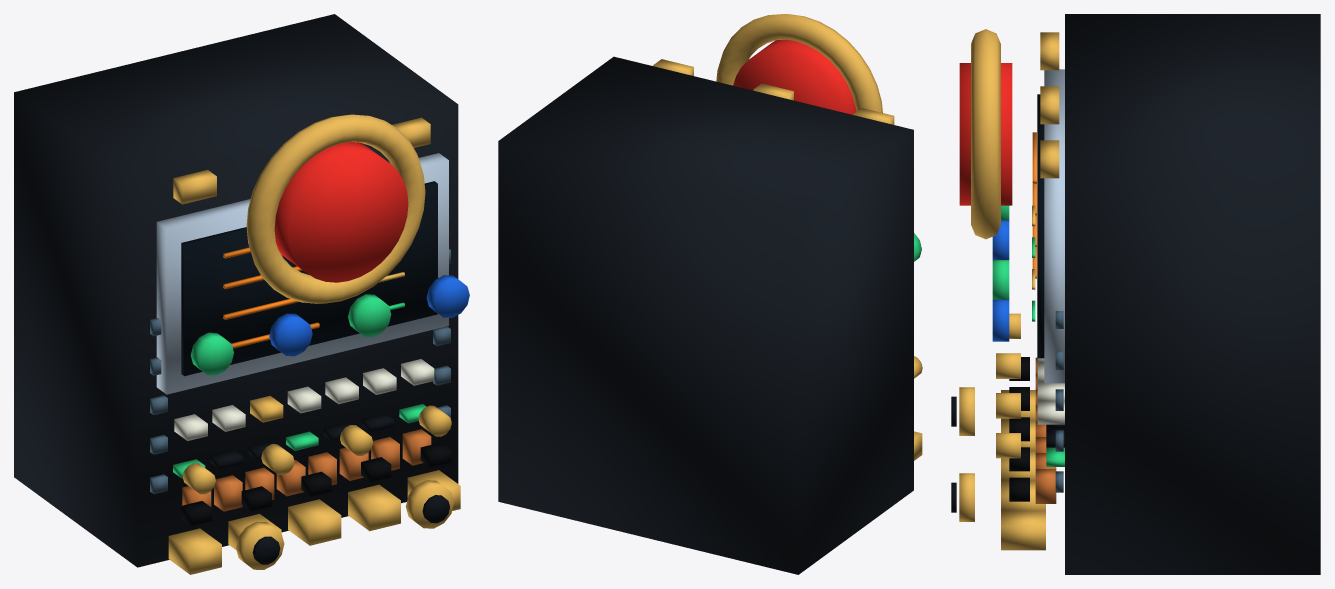
Rendered from 98_L93_EmergencyStopMaster.fbx.
The picture shows the model from 3 angles, left to right: view 1: azimuth 30°, elevation 25°; view 2: azimuth 150°, elevation 25°; view 3: azimuth 270°, elevation 25°; orthographic projection. The views are drawn at different scales.
Visible parts, largest first — view 1: L92_EmergencyStopMaster_Part_0000, L92_EmergencyStopMaster_Part_0002, L92_EmergencyStopMaster_Part_0012, L92_EmergencyStopMaster_Part_0004, L92_EmergencyStopMaster_Part_0013, L92_EmergencyStopMaster_Part_0001, L92_EmergencyStopMaster_Part_0009, L92_EmergencyStopMaster_Part_0006, L92_EmergencyStopMaster_Part_0005, L92_EmergencyStopMaster_Part_0010, L92_EmergencyStopMaster_Part_0011, L92_EmergencyStopMaster_Part_0008 (+6 smaller); view 2: L92_EmergencyStopMaster_Part_0000, L92_EmergencyStopMaster_Part_0013, L92_EmergencyStopMaster_Part_0012, L92_EmergencyStopMaster_Part_0004; view 3: L92_EmergencyStopMaster_Part_0000, L92_EmergencyStopMaster_Part_0004, L92_EmergencyStopMaster_Part_0013, L92_EmergencyStopMaster_Part_0001, L92_EmergencyStopMaster_Part_0012, L92_EmergencyStopMaster_Part_0010, L92_EmergencyStopMaster_Part_0002, L92_EmergencyStopMaster_Part_0009, L92_EmergencyStopMaster_Part_0005, L92_EmergencyStopMaster_Part_0011, L92_EmergencyStopMaster_Part_0006, L92_EmergencyStopMaster_Part_0008 (+3 smaller).
Boxes of the visible parts, left/top/right/bottom form: L92_EmergencyStopMaster_Part_0000: left=14, top=14, right=458, bottom=567; L92_EmergencyStopMaster_Part_0002: left=181, top=181, right=437, bottom=376; L92_EmergencyStopMaster_Part_0012: left=274, top=142, right=408, bottom=282; L92_EmergencyStopMaster_Part_0004: left=168, top=117, right=460, bottom=574; L92_EmergencyStopMaster_Part_0013: left=246, top=114, right=425, bottom=303; L92_EmergencyStopMaster_Part_0001: left=156, top=153, right=448, bottom=394; L92_EmergencyStopMaster_Part_0009: left=182, top=429, right=431, bottom=511; L92_EmergencyStopMaster_Part_0006: left=174, top=359, right=434, bottom=440; L92_EmergencyStopMaster_Part_0005: left=173, top=294, right=426, bottom=478; L92_EmergencyStopMaster_Part_0010: left=181, top=442, right=451, bottom=525; L92_EmergencyStopMaster_Part_0011: left=269, top=275, right=469, bottom=356; L92_EmergencyStopMaster_Part_0008: left=150, top=249, right=450, bottom=494; L92_EmergencyStopMaster_Part_0000: left=498, top=56, right=913, bottom=574; L92_EmergencyStopMaster_Part_0013: left=716, top=14, right=882, bottom=112; L92_EmergencyStopMaster_Part_0012: left=733, top=39, right=856, bottom=114; L92_EmergencyStopMaster_Part_0004: left=653, top=59, right=922, bottom=460; L92_EmergencyStopMaster_Part_0000: left=1065, top=14, right=1320, bottom=574; L92_EmergencyStopMaster_Part_0004: left=996, top=32, right=1059, bottom=550; L92_EmergencyStopMaster_Part_0013: left=971, top=29, right=1000, bottom=239; L92_EmergencyStopMaster_Part_0001: left=1044, top=69, right=1064, bottom=383; L92_EmergencyStopMaster_Part_0012: left=959, top=63, right=1012, bottom=205; L92_EmergencyStopMaster_Part_0010: left=1009, top=357, right=1029, bottom=501; L92_EmergencyStopMaster_Part_0002: left=1037, top=94, right=1044, bottom=358; L92_EmergencyStopMaster_Part_0009: left=1035, top=357, right=1056, bottom=503; L92_EmergencyStopMaster_Part_0005: left=992, top=205, right=1064, bottom=466; L92_EmergencyStopMaster_Part_0011: left=992, top=220, right=1009, bottom=341; L92_EmergencyStopMaster_Part_0006: left=1037, top=358, right=1064, bottom=424; L92_EmergencyStopMaster_Part_0008: left=1055, top=311, right=1063, bottom=492.
Size of the model in its own units: 102 by 134 by 98.2.
